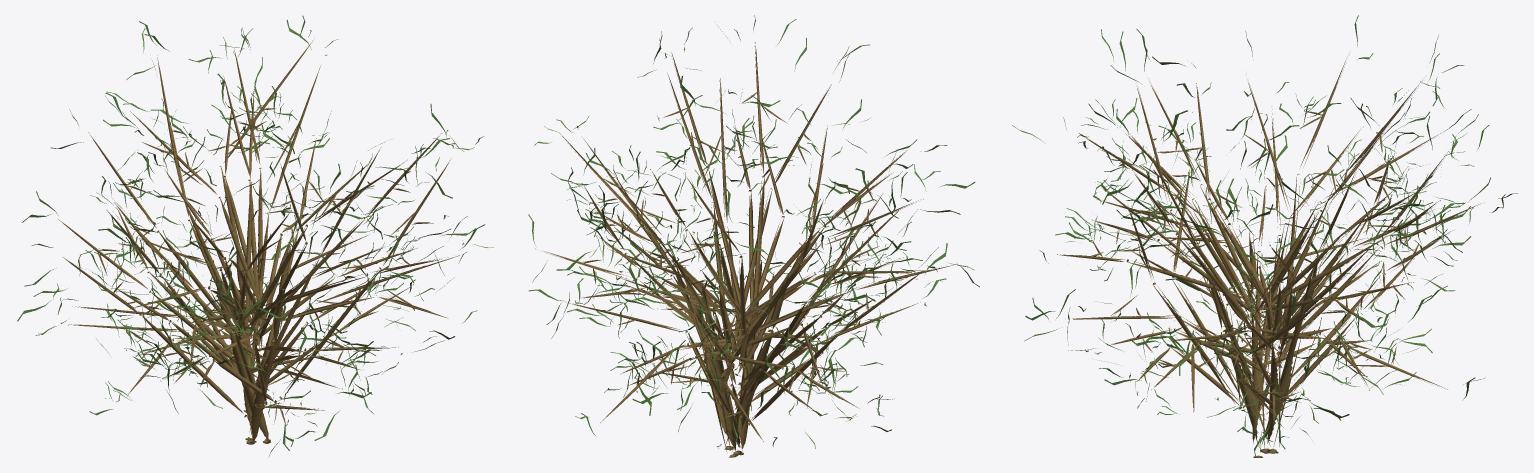
File: BUSH_02_Serrated_Sapling.glb
3 renders of one model, left to right at view 1: azimuth 30°, elevation 25°; view 2: azimuth 150°, elevation 25°; view 3: azimuth 270°, elevation 25°, orthographic. The views are drawn at different scales.
Parts seen in each view (by area): view 1: BUSH_02_Serrated_Sapling__WoodyStems, BUSH_02_Serrated_Sapling__FoliageCards; view 2: BUSH_02_Serrated_Sapling__WoodyStems, BUSH_02_Serrated_Sapling__FoliageCards; view 3: BUSH_02_Serrated_Sapling__WoodyStems, BUSH_02_Serrated_Sapling__FoliageCards.
Boxes of the visible parts, <box> form: BUSH_02_Serrated_Sapling__WoodyStems: <box>57,40,459,444</box>; BUSH_02_Serrated_Sapling__FoliageCards: <box>17,15,493,457</box>; BUSH_02_Serrated_Sapling__WoodyStems: <box>535,42,953,457</box>; BUSH_02_Serrated_Sapling__FoliageCards: <box>528,15,979,452</box>; BUSH_02_Serrated_Sapling__WoodyStems: <box>1057,54,1480,457</box>; BUSH_02_Serrated_Sapling__FoliageCards: <box>1012,15,1517,457</box>.
Size of the model in its own units: 1.73 by 1.39 by 1.6.
1 material, 1 textured.
